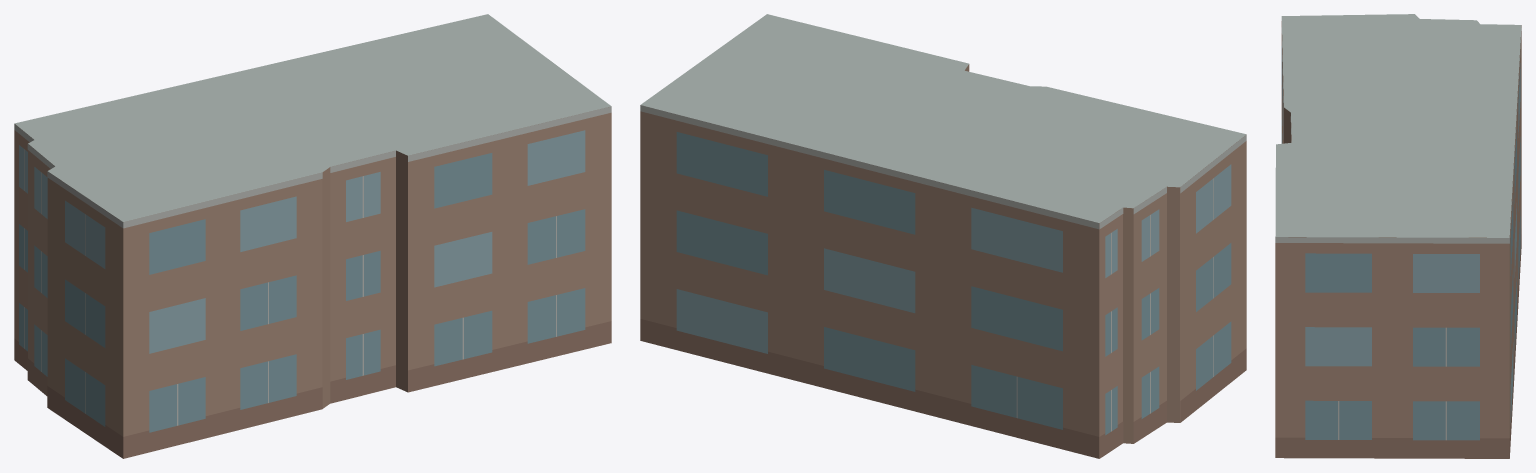
The model's file is survey-upis-32490678.glb.
3 views of the same model, side by side, from view 1: azimuth 30°, elevation 25°; view 2: azimuth 150°, elevation 25°; view 3: azimuth 270°, elevation 25° (orthographic). The views are drawn at different scales.
Parts seen in each view (by area): view 1: survey-upis-32490678.tmp; view 2: survey-upis-32490678.tmp; view 3: survey-upis-32490678.tmp.
Part boxes in pixels (x1=…): survey-upis-32490678.tmp: x1=14, y1=14, x2=611, y2=458; survey-upis-32490678.tmp: x1=640, y1=14, x2=1246, y2=458; survey-upis-32490678.tmp: x1=1275, y1=14, x2=1521, y2=458.
Bounding box in the file's own units: 19.89 × 9.15 × 9.24.
